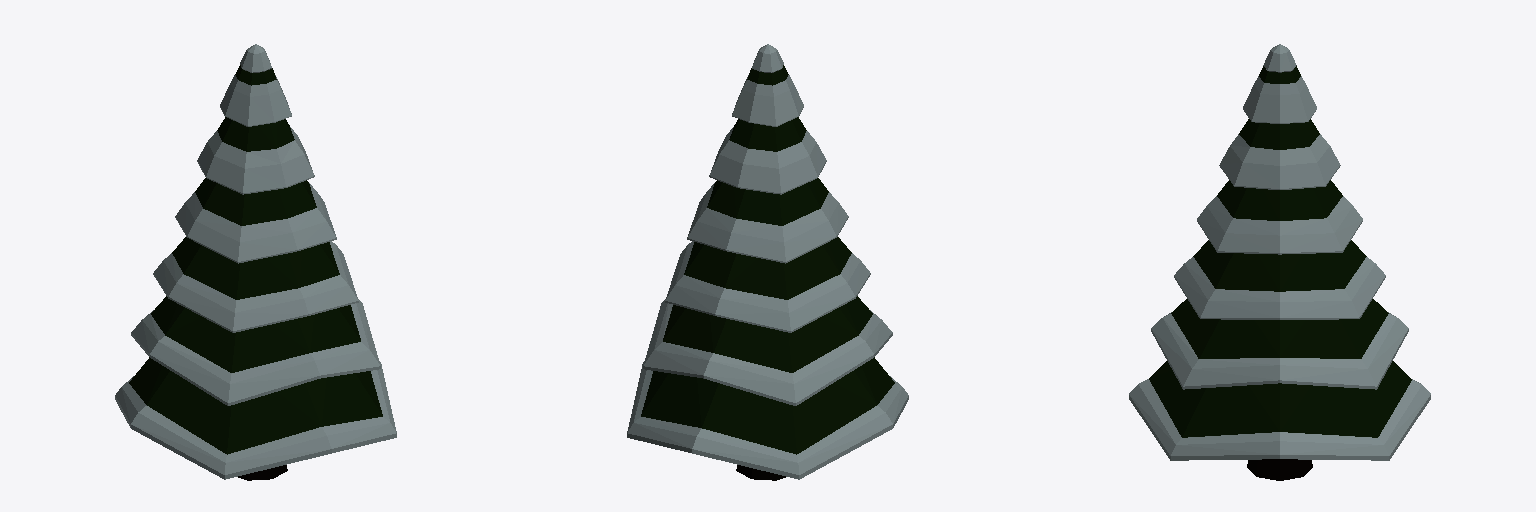
Rendered from Arbol_nieve.obj.
3 renders of one model, left to right at view 1: azimuth 30°, elevation 25°; view 2: azimuth 150°, elevation 25°; view 3: azimuth 270°, elevation 25°, orthographic.
Visible parts, largest first — view 1: Object001; view 2: Object001; view 3: Object001.
Part boxes in pixels (x1,y1,x2,y2): Object001: (115,44,396,480); Object001: (627,44,908,480); Object001: (1129,44,1430,480).
Bounding box in the file's own units: 49.2 × 79.36 × 51.55.